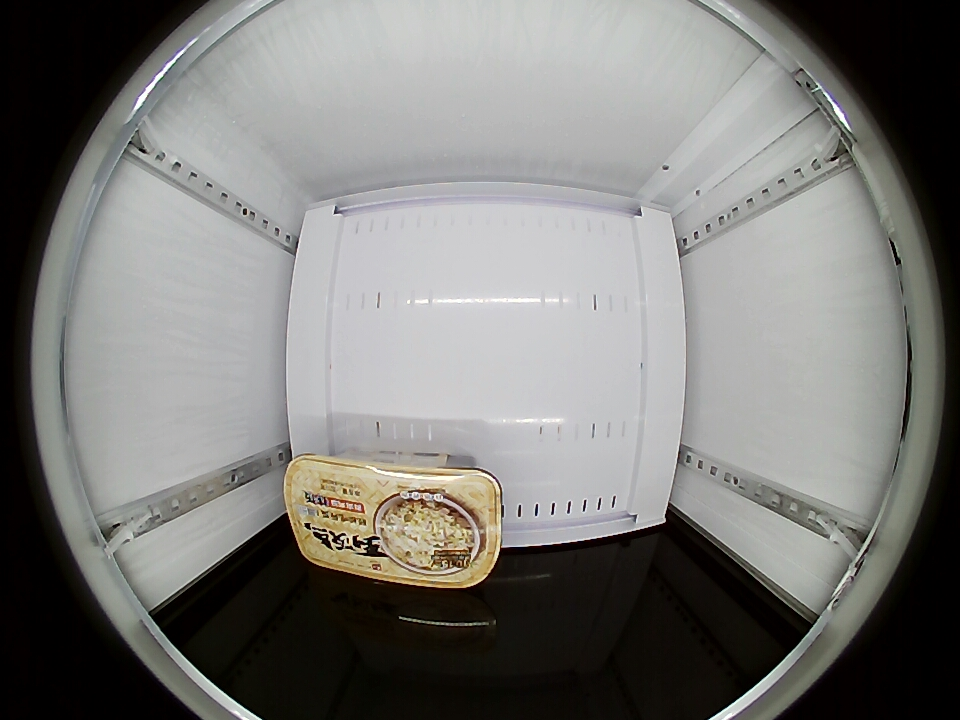daofandian1: (283, 453, 505, 589)
